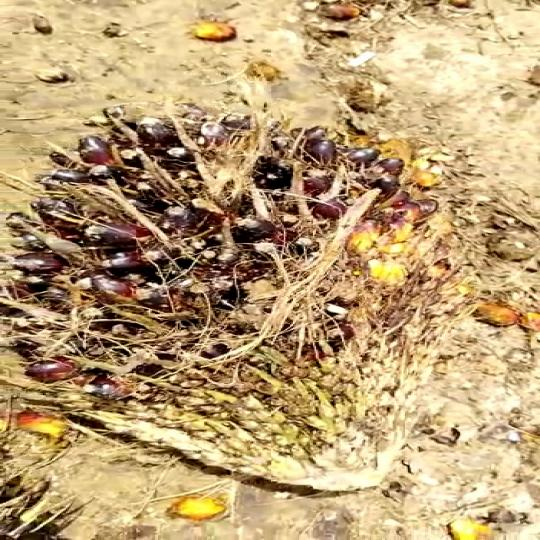mentah: (7, 92, 440, 503)
